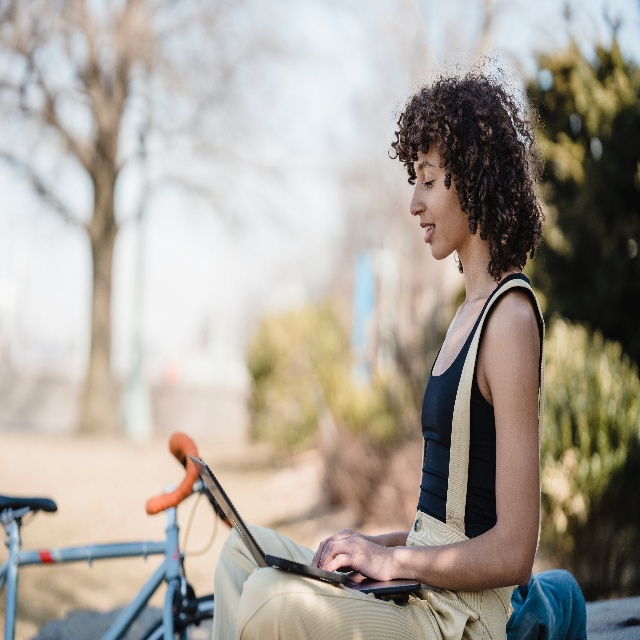Sin_guantes: (318, 534, 393, 582), (310, 529, 358, 568)
